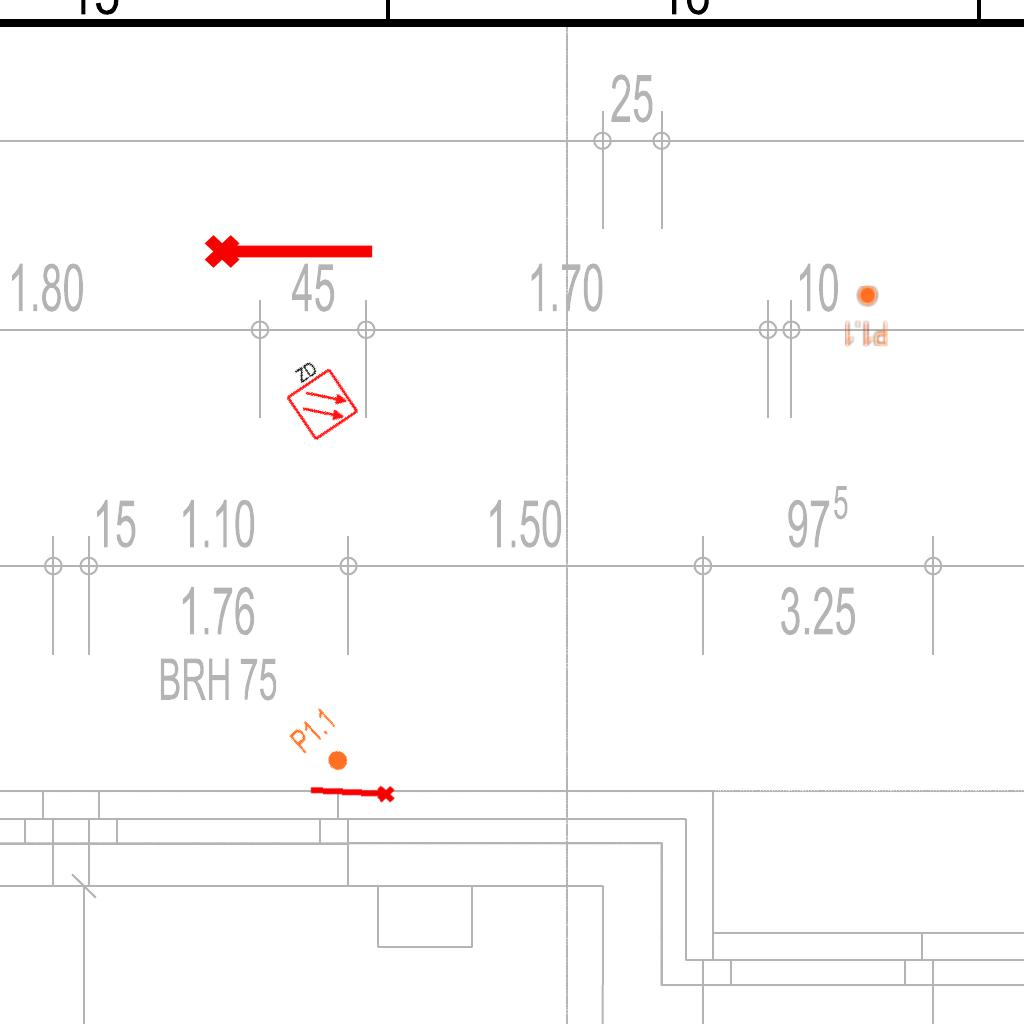ASR_Ansaugoeffnung: (202, 226, 378, 272), (307, 779, 397, 808)
Downlight_LED_Einbauleuchten_Flur: (286, 704, 364, 784), (843, 284, 889, 348)
ZD_Melder_in_Zwischendecke_mit_Revisionsoeffnung_mind_40_x_40_cm: (272, 350, 361, 444)
